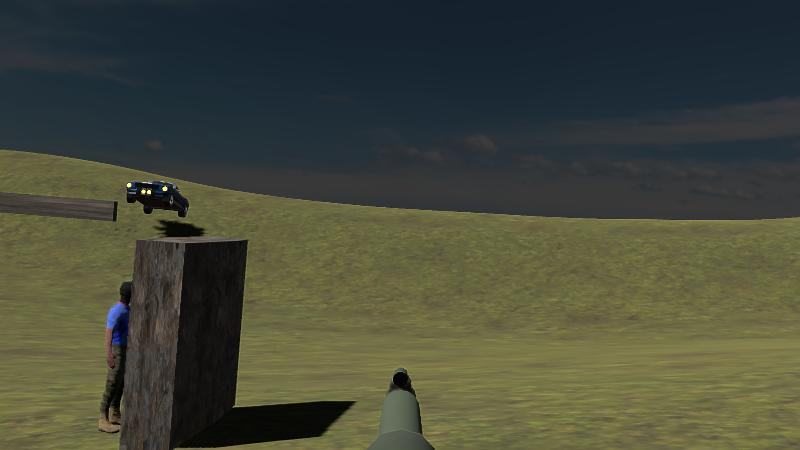Human: (98, 281, 136, 433)
car: (127, 180, 189, 218)
